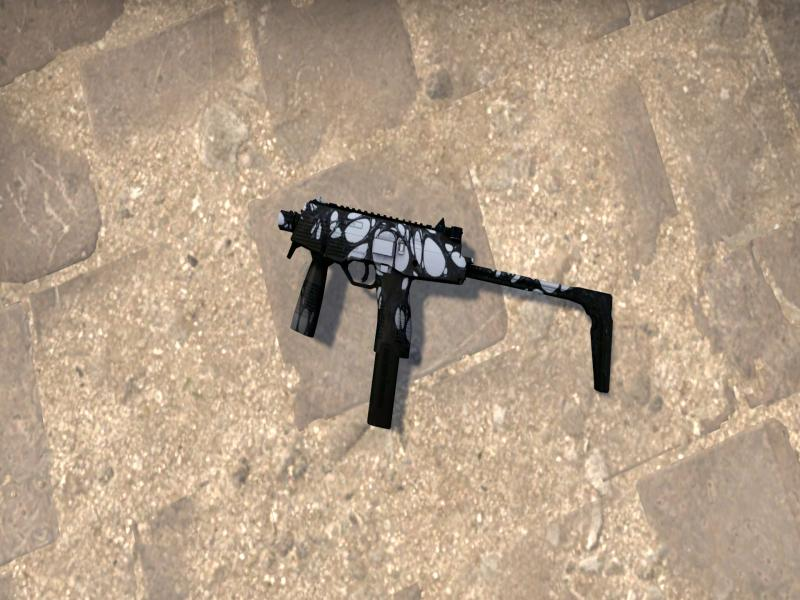MP9: (277, 198, 613, 428)
